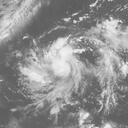cyclone: (28, 35, 94, 100)
